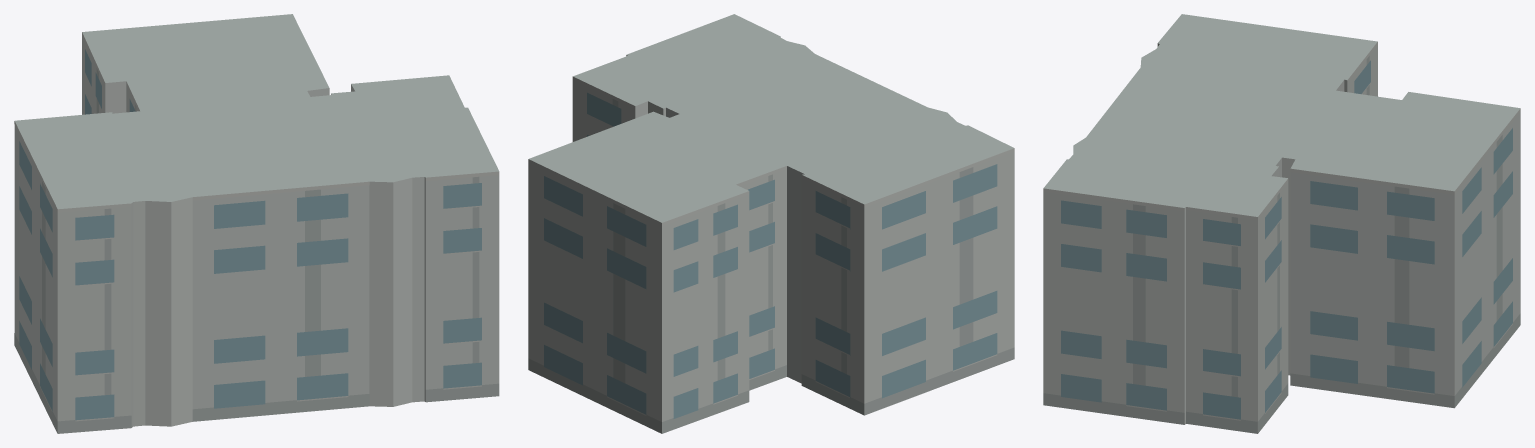
Rendered from survey-upis-32838367.glb.
3 renders of one model, left to right at view 1: azimuth 30°, elevation 25°; view 2: azimuth 150°, elevation 25°; view 3: azimuth 270°, elevation 25°, orthographic. The views are drawn at different scales.
Visible parts, largest first — view 1: survey-upis-32838367.tmp; view 2: survey-upis-32838367.tmp; view 3: survey-upis-32838367.tmp.
Part boxes in pixels (x1,y1,x2,y2): survey-upis-32838367.tmp: (14,14,499,433); survey-upis-32838367.tmp: (528,14,1014,433); survey-upis-32838367.tmp: (1043,14,1520,433).
Size of the model in its own units: 30.63 by 15.25 by 30.43.
